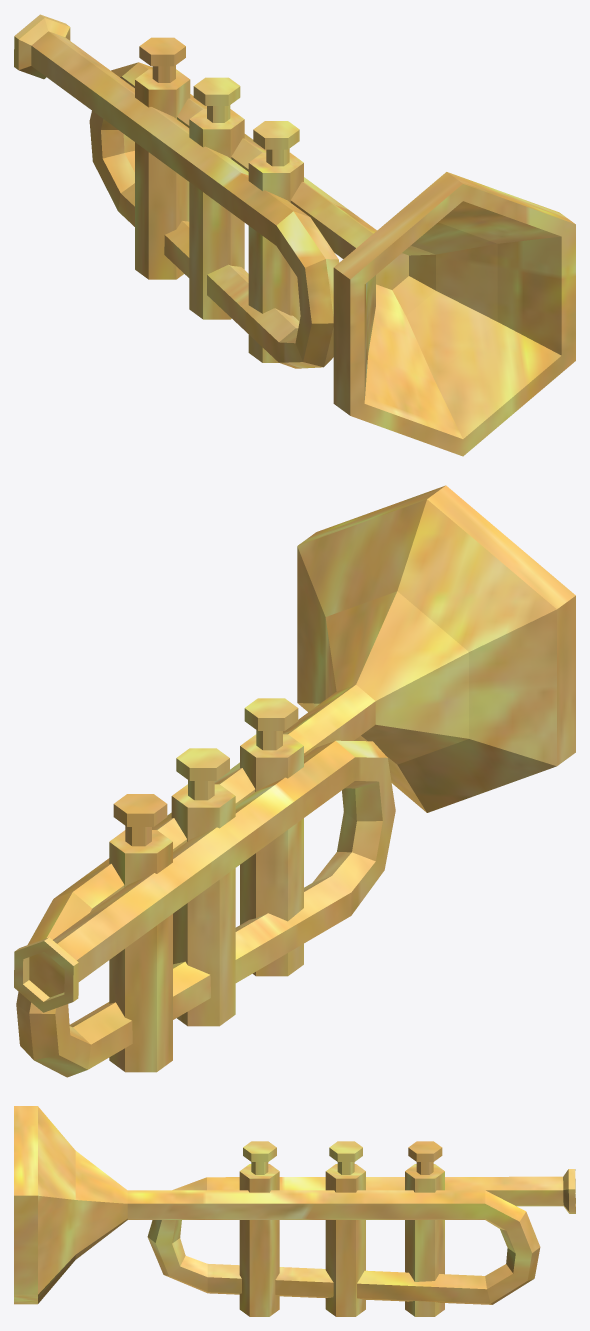
The model's file is trumpet.fbx.
3 views of the same model, one above another, from view 1: azimuth 30°, elevation 25°; view 2: azimuth 150°, elevation 25°; view 3: azimuth 270°, elevation 25° (orthographic). The views are drawn at different scales.
Parts seen in each view (by area): view 1: Trumpet; view 2: Trumpet; view 3: Trumpet.
Part boxes in pixels (x1,y1,x2,y2): Trumpet: (14,14,575,456); Trumpet: (14,485,575,1077); Trumpet: (14,1106,575,1316).
Size of the model in its own units: 35.95 by 43.9 by 107.
1 material, 1 textured.
